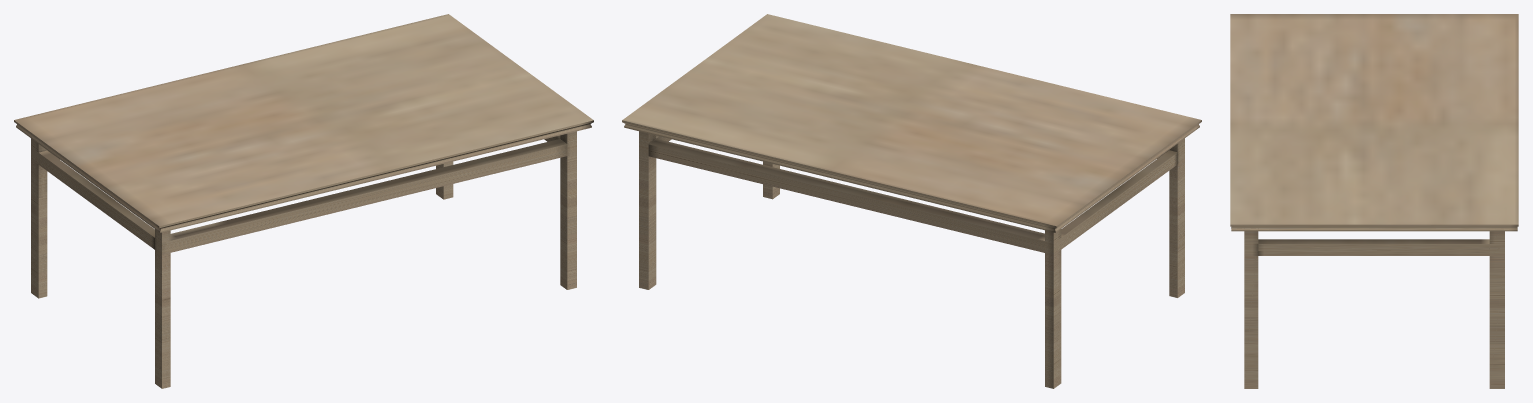
Rendered from MesaComedor.fbx.
3 views of the same model, side by side, from view 1: azimuth 30°, elevation 25°; view 2: azimuth 150°, elevation 25°; view 3: azimuth 270°, elevation 25° (orthographic).
Visible parts, largest first — view 1: mesaComedor; view 2: mesaComedor; view 3: mesaComedor.
Boxes of the visible parts, <box> form: mesaComedor: <box>14,14,593,388</box>; mesaComedor: <box>622,14,1201,388</box>; mesaComedor: <box>1230,14,1518,388</box>.
Bounding box in the file's own units: 7.43 × 2.78 × 4.3.
